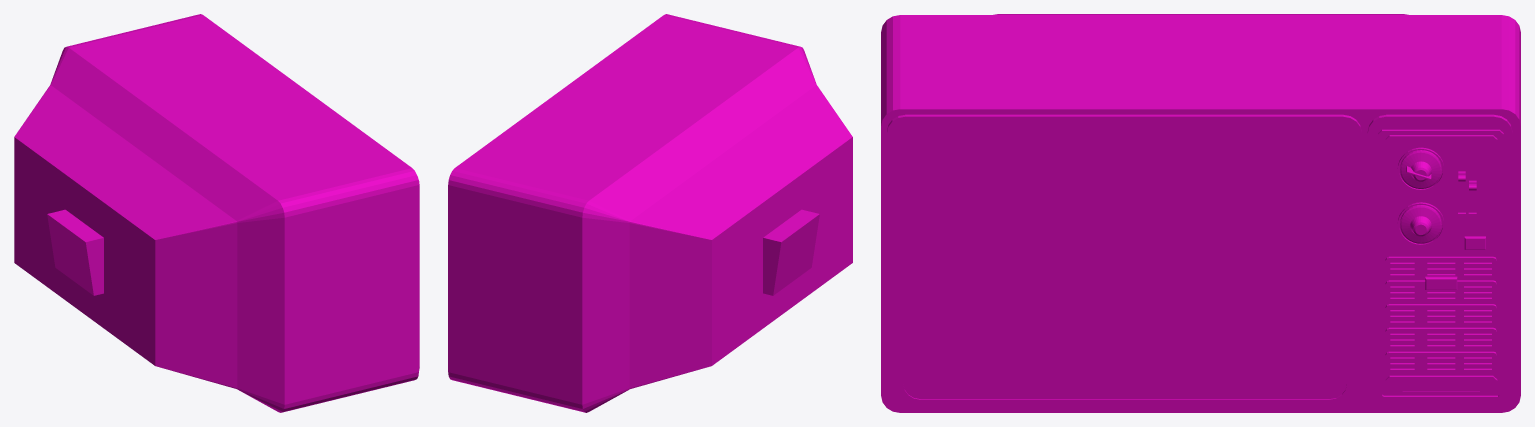
File: transistor_TV.glb
The picture shows the model from 3 angles, left to right: view 1: azimuth 30°, elevation 25°; view 2: azimuth 150°, elevation 25°; view 3: azimuth 270°, elevation 25°; orthographic projection. The views are drawn at different scales.
Parts seen in each view (by area): view 1: TV; view 2: TV; view 3: TV.
Boxes of the visible parts, box(x1,y1,x2,y2) form: TV: box(14, 14, 419, 412); TV: box(448, 14, 852, 412); TV: box(881, 14, 1520, 412).
Size of the model in its own units: 3.26 by 2.56 by 4.9.
